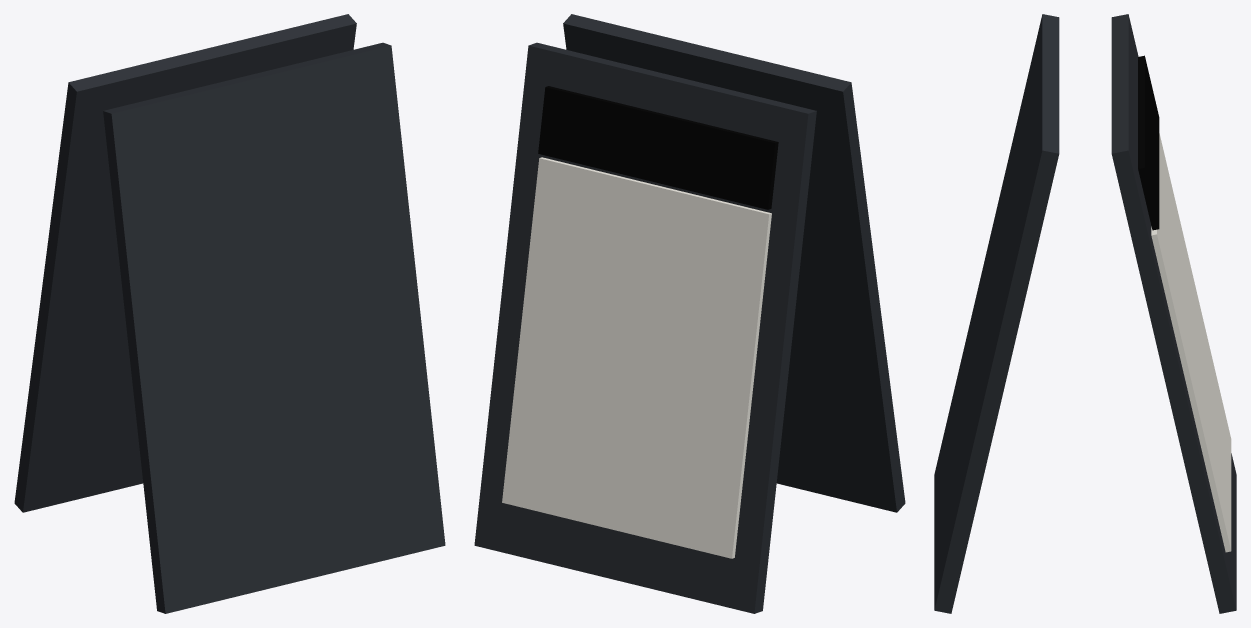
The model's file is SignStand.fbx.
The picture shows the model from 3 angles, left to right: view 1: azimuth 30°, elevation 25°; view 2: azimuth 150°, elevation 25°; view 3: azimuth 270°, elevation 25°; orthographic projection.
Parts seen in each view (by area): view 1: Boards; view 2: Face.001, Boards; view 3: Boards, Face.001.
Part boxes in pixels (x1=…): Boards: x1=14, y1=14, x2=445, y2=613; Face.001: x1=502, y1=86, x2=778, y2=558; Boards: x1=474, y1=14, x2=905, y2=613; Boards: x1=934, y1=14, x2=1236, y2=613; Face.001: x1=1138, y1=55, x2=1231, y2=552.
Bounding box in the file's own units: 0.56 × 0.8866 × 0.5236.
